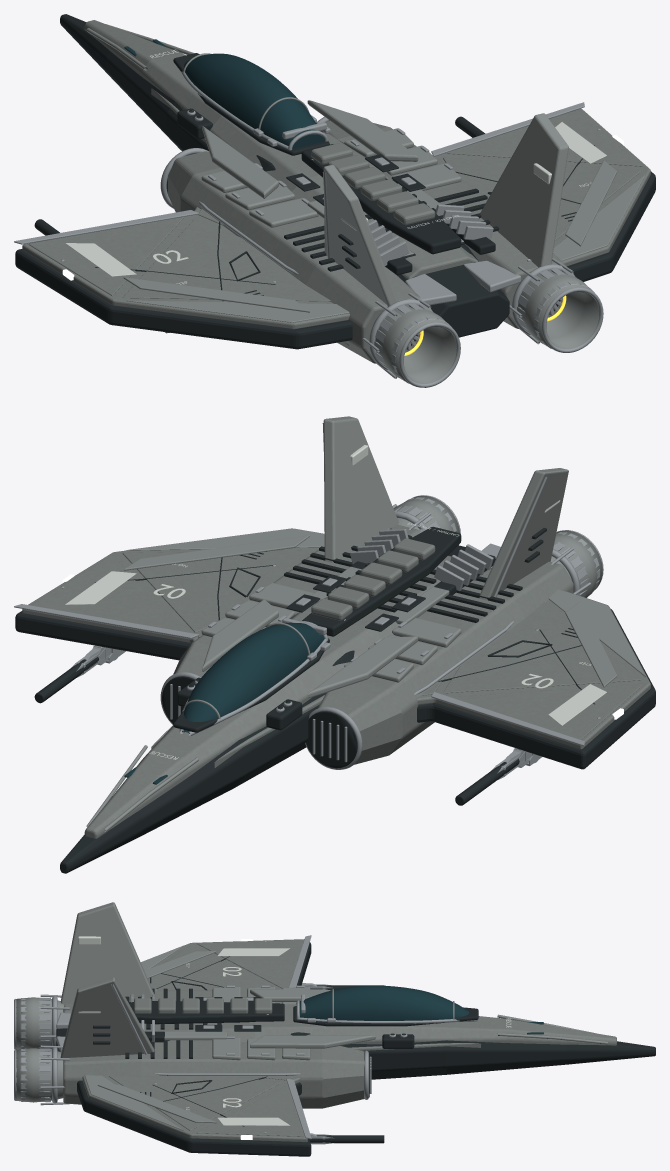
Rendered from strider.glb.
3 renders of one model, top to bottom at view 1: azimuth 30°, elevation 25°; view 2: azimuth 150°, elevation 25°; view 3: azimuth 270°, elevation 25°, orthographic. The views are drawn at different scales.
Visible parts, largest first — view 1: 主装甲_陶瓷金属涂层, 次级装甲_深色钢, 碳化结构与接缝, 拉丝钛合金, 镀膜座舱玻璃, 识别色; view 2: 主装甲_陶瓷金属涂层, 次级装甲_深色钢, 碳化结构与接缝, 拉丝钛合金, 镀膜座舱玻璃, 识别色; view 3: 主装甲_陶瓷金属涂层, 次级装甲_深色钢, 碳化结构与接缝, 拉丝钛合金, 镀膜座舱玻璃, 识别色.
Part boxes in pixels (bbox=[...]): 主装甲_陶瓷金属涂层: bbox=[22, 20, 650, 363]; 次级装甲_深色钢: bbox=[86, 24, 645, 383]; 碳化结构与接缝: bbox=[15, 14, 655, 349]; 拉丝钛合金: bbox=[14, 71, 603, 387]; 镀膜座舱玻璃: bbox=[124, 39, 324, 149]; 识别色: bbox=[65, 49, 606, 276]; 主装甲_陶瓷金属涂层: bbox=[22, 524, 650, 838]; 次级装甲_深色钢: bbox=[86, 416, 646, 831]; 碳化结构与接缝: bbox=[15, 526, 655, 873]; 拉丝钛合金: bbox=[14, 423, 603, 779]; 镀膜座舱玻璃: bbox=[124, 622, 324, 784]; 识别色: bbox=[65, 445, 606, 759]; 主装甲_陶瓷金属涂层: bbox=[63, 939, 616, 1142]; 次级装甲_深色钢: bbox=[16, 902, 607, 1130]; 碳化结构与接缝: bbox=[56, 942, 655, 1156]; 拉丝钛合金: bbox=[14, 935, 477, 1144]; 镀膜座舱玻璃: bbox=[299, 985, 543, 1034]; 识别色: bbox=[78, 936, 511, 1125].
Bounding box in the file's own units: 7.6 × 2.34 × 10.13.
Materials: 9 (1 with a texture image).
